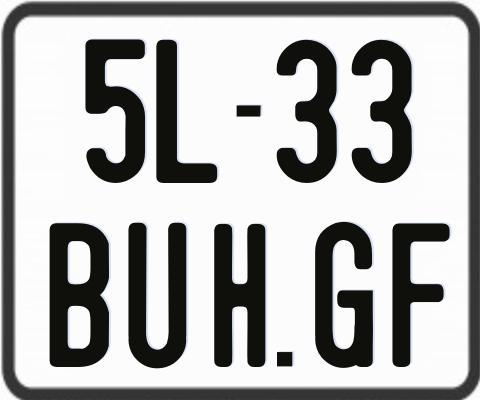3: (275, 39, 336, 186), (350, 39, 410, 183)
5: (85, 37, 145, 181)
B: (49, 221, 108, 369)
F: (392, 223, 451, 373)
G: (315, 222, 375, 374)
H: (213, 224, 268, 372)
L: (156, 38, 218, 186)
U: (127, 221, 186, 366)
